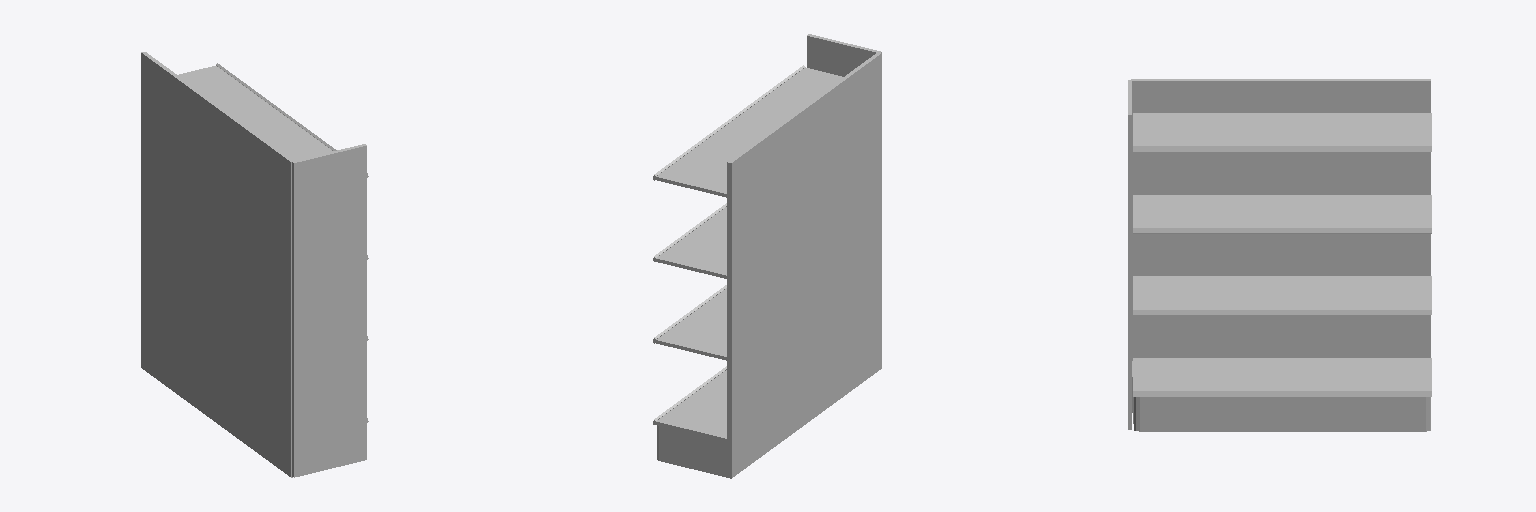
Rendered from Shelf_end_4.obj.
3 renders of one model, left to right at view 1: azimuth 30°, elevation 25°; view 2: azimuth 150°, elevation 25°; view 3: azimuth 270°, elevation 25°, orthographic.
Visible parts, largest first — view 1: Shelf_end_4_Cube.011; view 2: Shelf_end_4_Cube.011; view 3: Shelf_end_4_Cube.011.
Boxes of the visible parts, <box> form: Shelf_end_4_Cube.011: <box>141,52,368,477</box>; Shelf_end_4_Cube.011: <box>653,34,881,478</box>; Shelf_end_4_Cube.011: <box>1128,79,1431,431</box>.
Size of the model in its own units: 1.04 by 4 by 3.51.